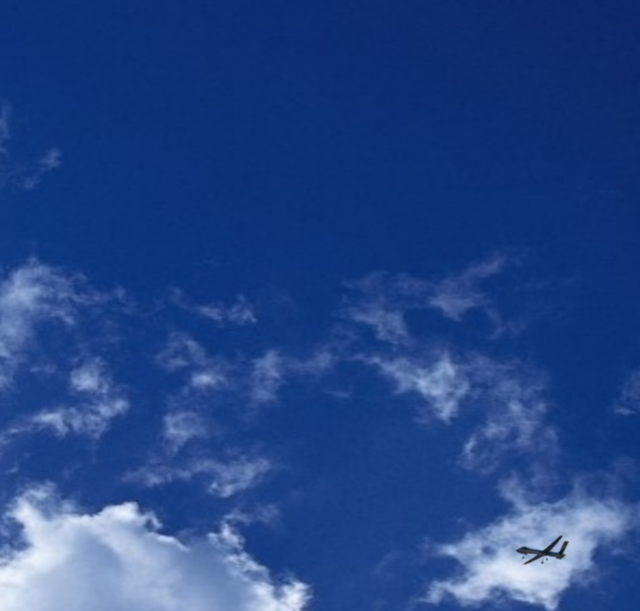military drone: (515, 535, 569, 565)
